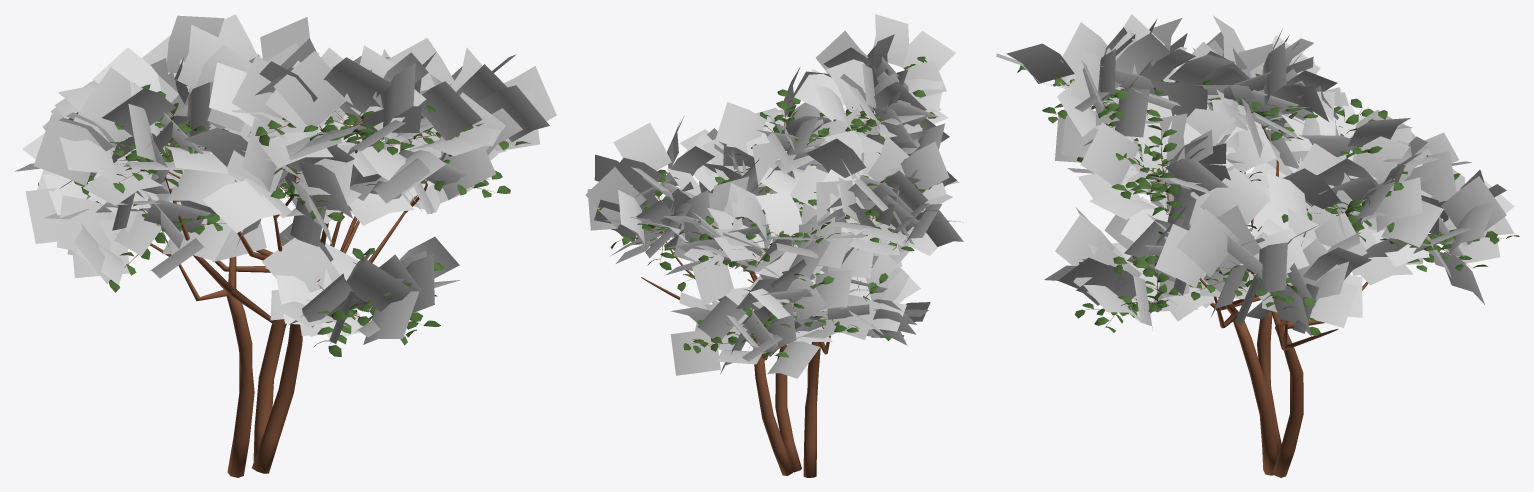
Rendered from Arbousier_Ancien_LOD0.fbx.
The picture shows the model from 3 angles, left to right: view 1: azimuth 30°, elevation 25°; view 2: azimuth 150°, elevation 25°; view 3: azimuth 270°, elevation 25°; orthographic projection. The views are drawn at different scales.
Parts seen in each view (by area): view 1: Arbousier_Ancien; view 2: Arbousier_Ancien; view 3: Arbousier_Ancien.
Boxes of the visible parts, <box> form: Arbousier_Ancien: <box>15,14,556,477</box>; Arbousier_Ancien: <box>585,14,963,477</box>; Arbousier_Ancien: <box>996,14,1519,477</box>.
Bounding box in the file's own units: 487 × 462 × 497.
